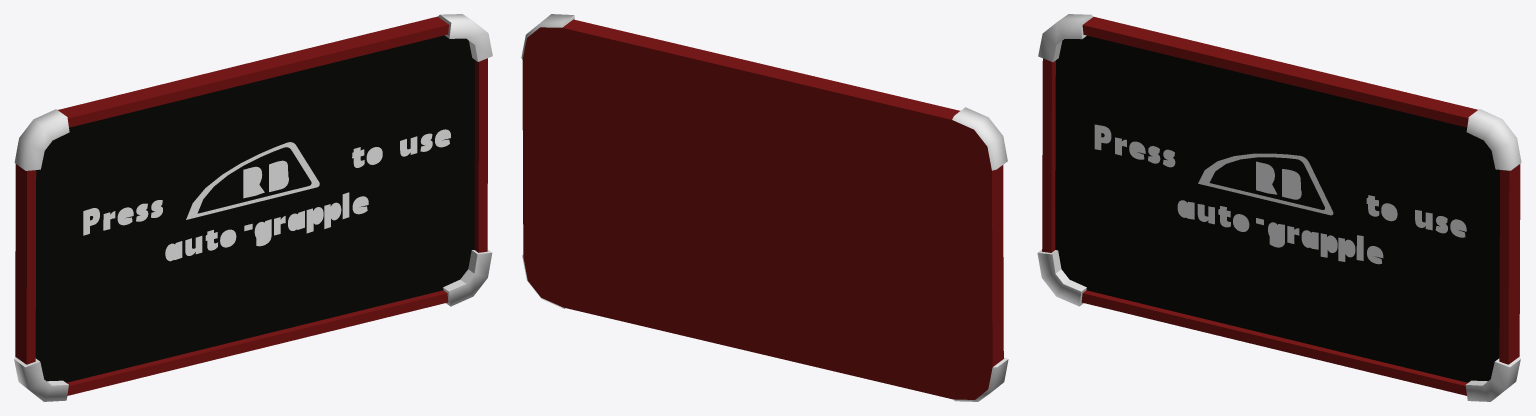
Rendered from mdl_Signal_01.FBX.
3 views of the same model, side by side, from view 1: azimuth 30°, elevation 25°; view 2: azimuth 150°, elevation 25°; view 3: azimuth 330°, elevation 25° (orthographic).
Parts seen in each view (by area): view 1: Signal_Autograpple; view 2: Signal_Autograpple; view 3: Signal_Autograpple.
Part boxes in pixels (bbox=[...]): Signal_Autograpple: bbox=[14, 14, 492, 401]; Signal_Autograpple: bbox=[521, 14, 1008, 401]; Signal_Autograpple: bbox=[1037, 14, 1521, 401].
Size of the model in its own units: 77.68 by 44.99 by 4.56.
